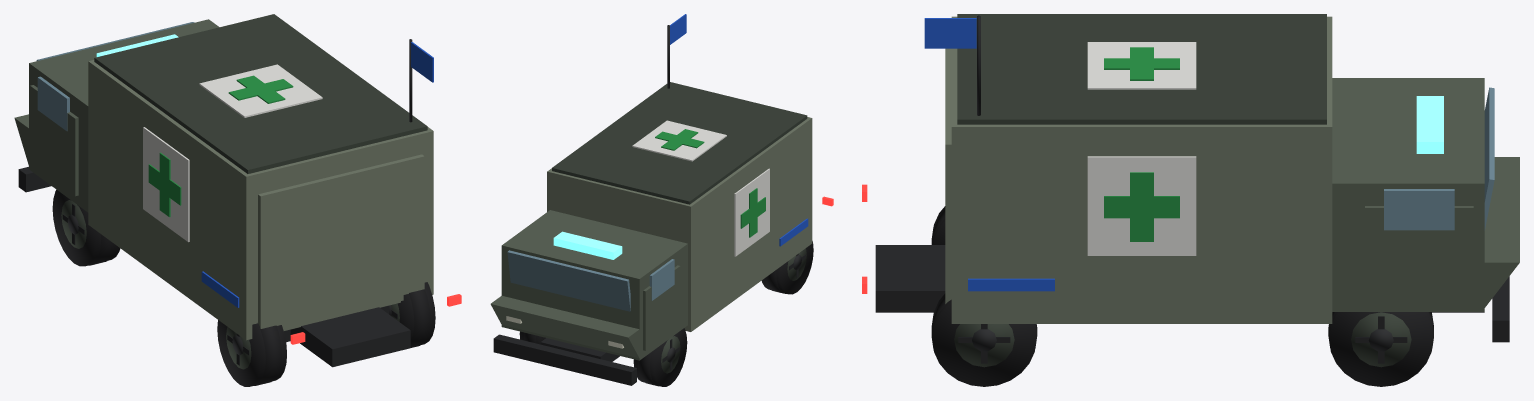
Rendered from Ambulance_Blue.fbx.
3 views of the same model, side by side, from view 1: azimuth 30°, elevation 25°; view 2: azimuth 150°, elevation 25°; view 3: azimuth 270°, elevation 25° (orthographic). The views are drawn at different scales.
Visible parts, largest first — view 1: MedBox, MedBoxRoof, RearDoors, Cab, Frame, DoorL1Panel, CrossPanelL, RoofCrossPanel, TyreL2, TyreL1, DoorL1Window, TreadBandL2 (+12 smaller); view 2: MedBox, MedBoxRoof, Cab, CabNose, Windshield, Bumper, DoorL1Panel, CrossPanelL, RoofCrossPanel, LightBar, TyreL1, TyreL2 (+9 smaller); view 3: MedBox, MedBoxRoof, Cab, DoorR1Panel, CrossPanelR, Frame, CabNose, TyreR1, RoofCrossPanel, TyreR2, DoorR1Window, RimR1 (+11 smaller).
Part boxes in pixels (left/top/right/bottom): MedBox: left=88, top=60, right=433, bottom=340; MedBoxRoof: left=94, top=14, right=427, bottom=173; RearDoors: left=258, top=154, right=424, bottom=329; Cab: left=29, top=19, right=219, bottom=212; Frame: left=290, top=307, right=410, bottom=367; DoorL1Panel: left=30, top=85, right=78, bottom=196; CrossPanelL: left=143, top=127, right=189, bottom=242; RoofCrossPanel: left=199, top=64, right=322, bottom=117; TyreL2: left=217, top=320, right=286, bottom=386; TyreL1: left=52, top=189, right=120, bottom=266; DoorL1Window: left=37, top=76, right=69, bottom=130; TreadBandL2: left=254, top=323, right=281, bottom=385; MedBox: left=547, top=117, right=812, bottom=331; MedBoxRoof: left=552, top=82, right=807, bottom=204; Cab: left=501, top=210, right=687, bottom=360; CabNose: left=490, top=295, right=640, bottom=358; Windshield: left=507, top=250, right=630, bottom=311; Bumper: left=493, top=334, right=636, bottom=385; DoorL1Panel: left=643, top=265, right=680, bottom=350; CrossPanelL: left=734, top=168, right=769, bottom=256; RoofCrossPanel: left=632, top=120, right=726, bottom=161; LightBar: left=553, top=231, right=622, bottom=259; TyreL1: left=633, top=328, right=687, bottom=386; TyreL2: left=761, top=241, right=813, bottom=294; MedBox: left=951, top=16, right=1332, bottom=323; MedBoxRoof: left=957, top=14, right=1326, bottom=124; Cab: left=1332, top=78, right=1484, bottom=311; DoorR1Panel: left=1365, top=206, right=1473, bottom=301; CrossPanelR: left=1087, top=156, right=1196, bottom=255; Frame: left=875, top=245, right=1484, bottom=312; CabNose: left=1482, top=157, right=1519, bottom=311; TyreR1: left=1329, top=312, right=1433, bottom=386; RoofCrossPanel: left=1087, top=42, right=1196, bottom=89; TyreR2: left=932, top=293, right=1036, bottom=386; DoorR1Window: left=1384, top=189, right=1454, bottom=230; RimR1: left=1351, top=312, right=1411, bottom=367.
Size of the model in its own units: 247 by 605 by 373.
